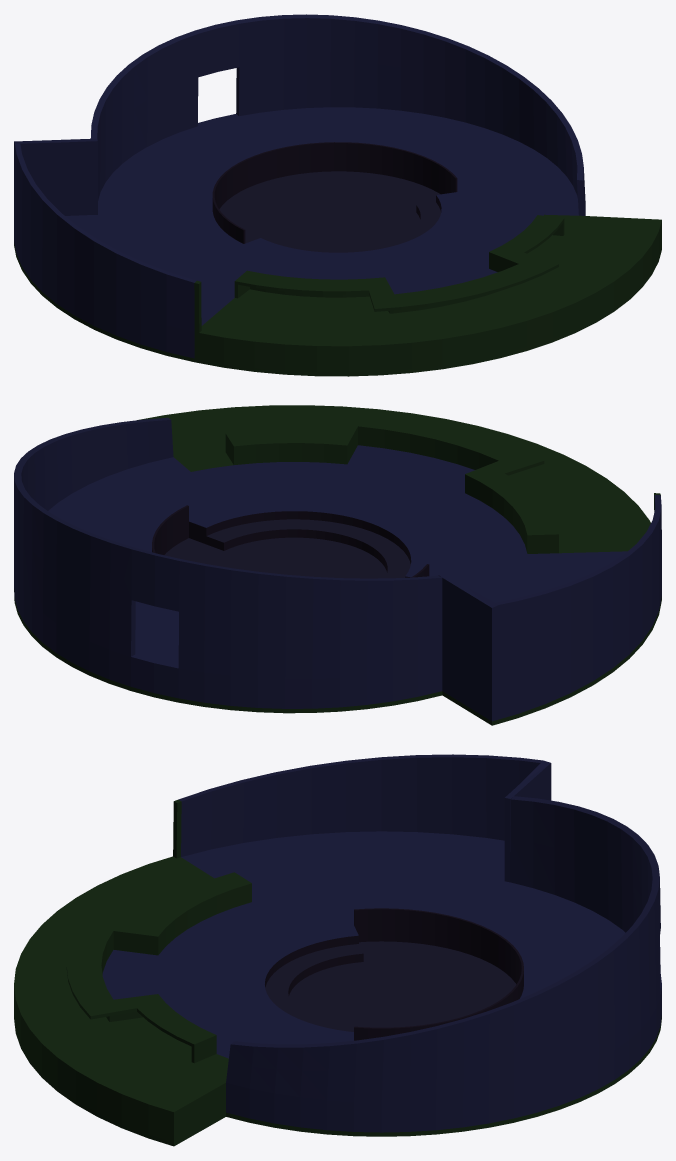
File: B_Level_whitebox_Jan12.fbx
3 views of the same model, one above another, from view 1: azimuth 30°, elevation 25°; view 2: azimuth 150°, elevation 25°; view 3: azimuth 270°, elevation 25° (orthographic). The views are drawn at different scales.
Visible parts, largest first — view 1: Cylinder001; view 2: Cylinder001; view 3: Cylinder001.
Part boxes in pixels (left/top/right/bottom): Cylinder001: left=14, top=14, right=661, bottom=376; Cylinder001: left=14, top=405, right=661, bottom=725; Cylinder001: left=14, top=754, right=661, bottom=1146.
Size of the model in its own units: 2567 by 596 by 2480.
